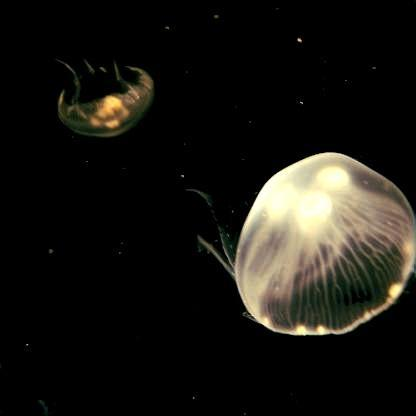Speckle: (182, 151, 415, 338), (42, 23, 156, 138)
